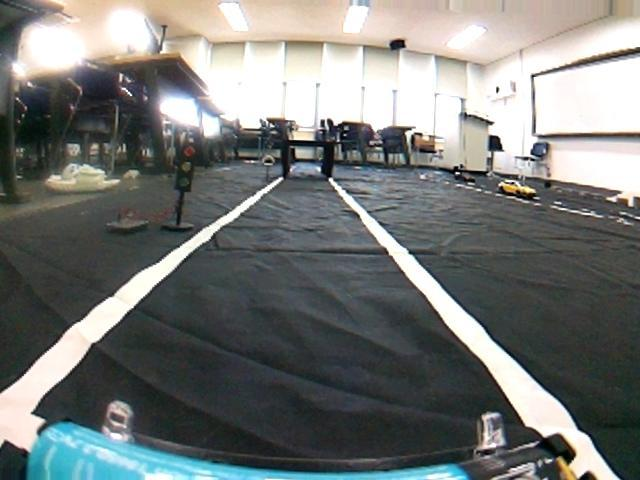sign_tunnel: (262, 152, 276, 166)
straight: (5, 176, 640, 479)
yellow_light: (175, 138, 199, 194)
